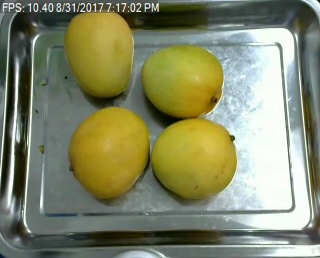Mango: (151, 116, 236, 199), (70, 107, 149, 196), (141, 44, 222, 119), (65, 11, 133, 96)
